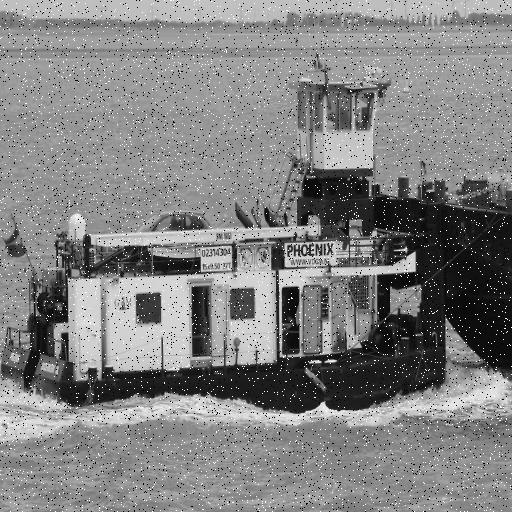tugboat: (1, 13, 455, 424)
